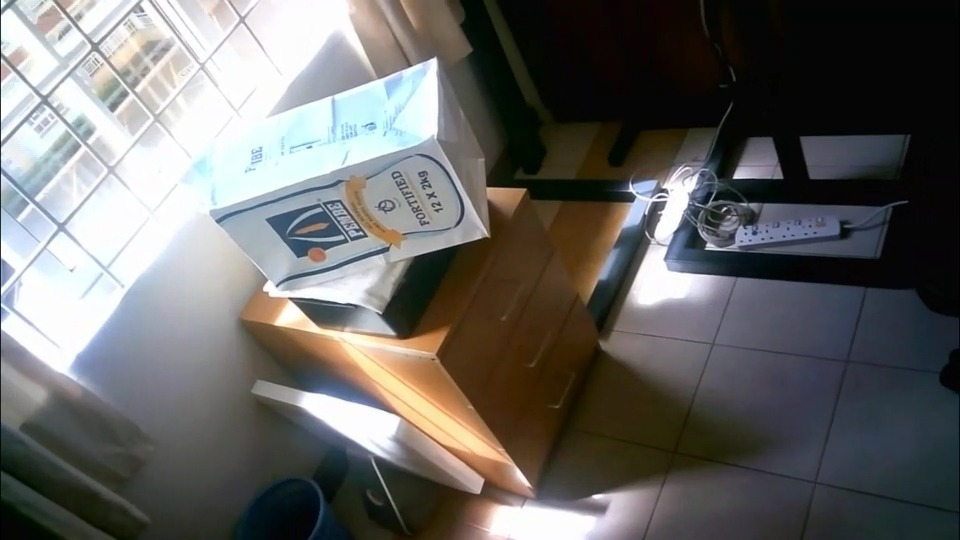wheat_flour_blue_label: (208, 55, 492, 288)
